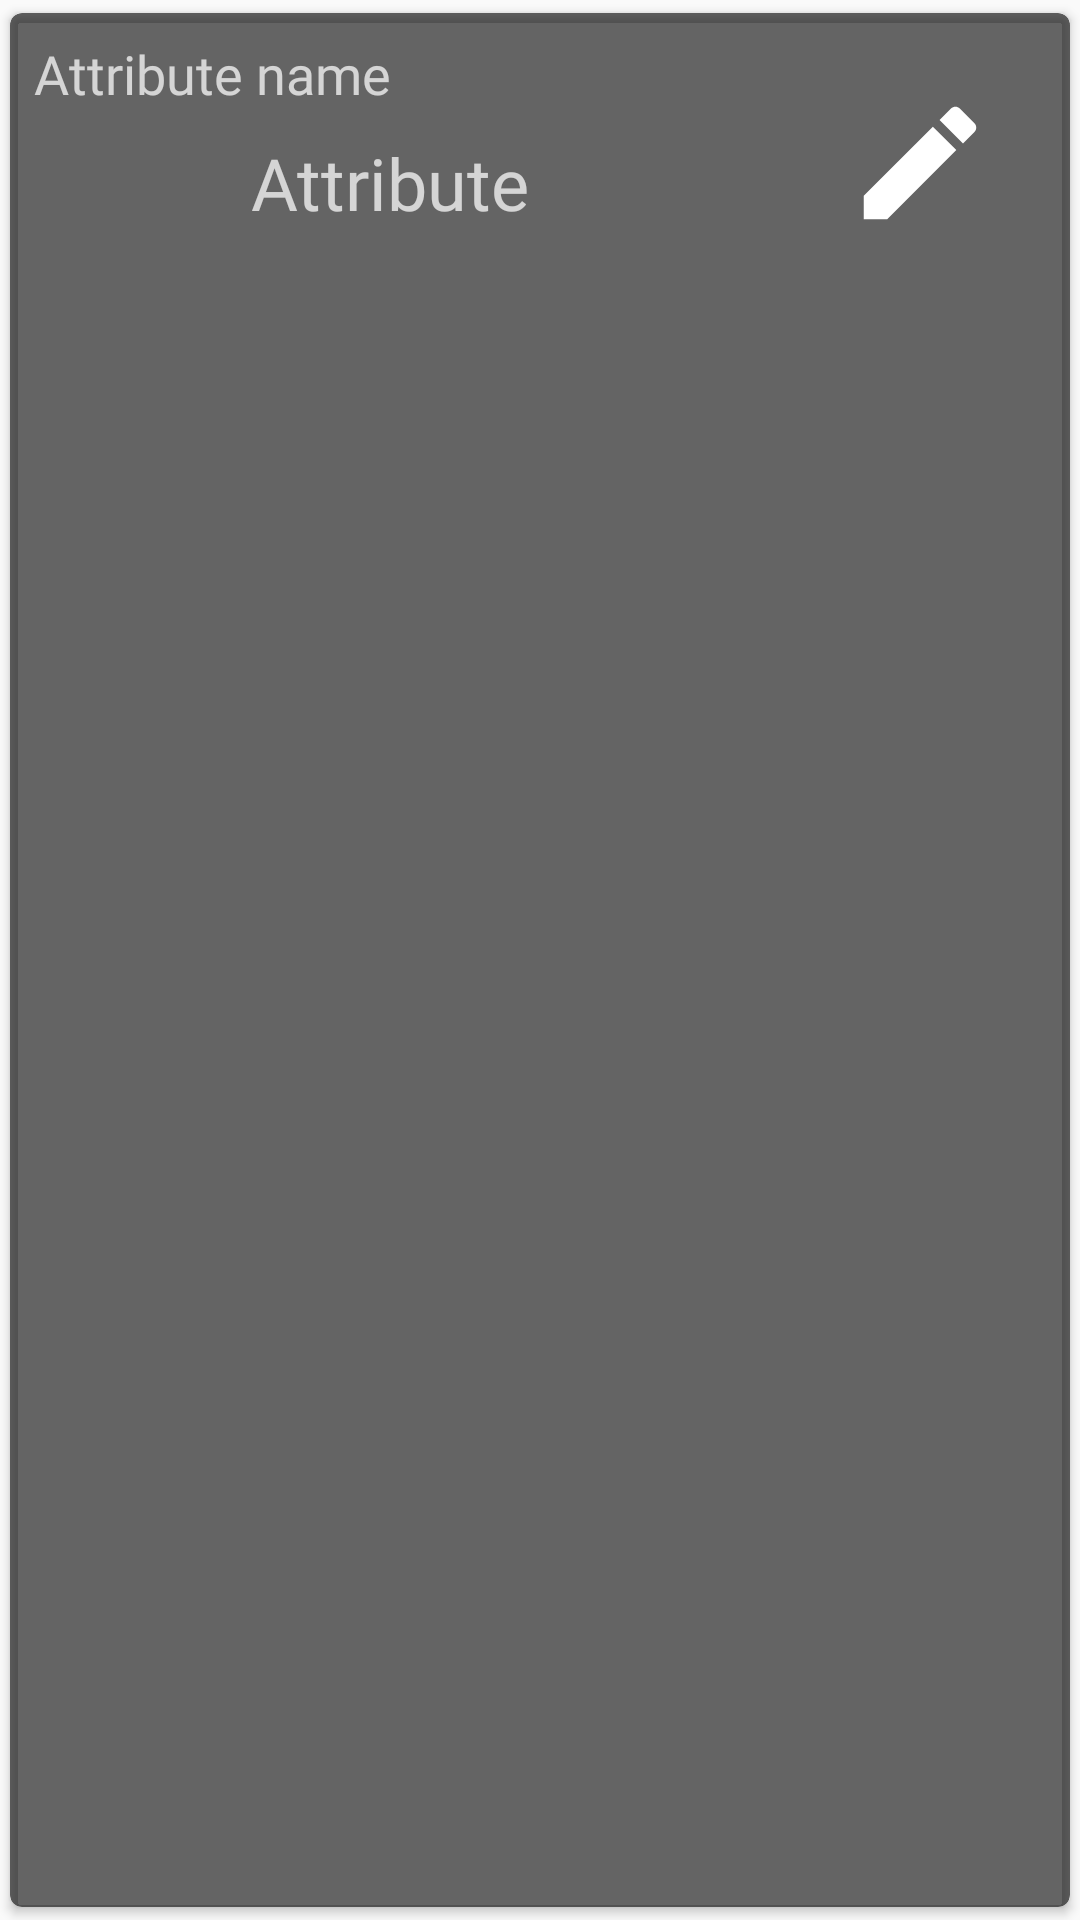

Named icons in this screenshot (1080 x 1920) and their bounding boxes, (x1, y1, x2, y2):
edit: (863, 106, 977, 220)
